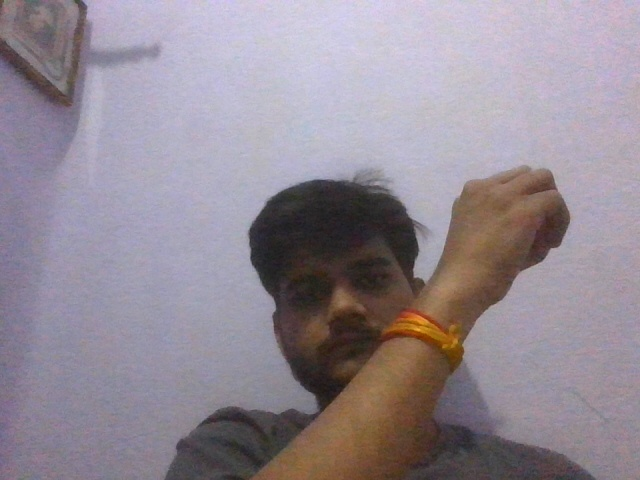no: (448, 152, 591, 303)
